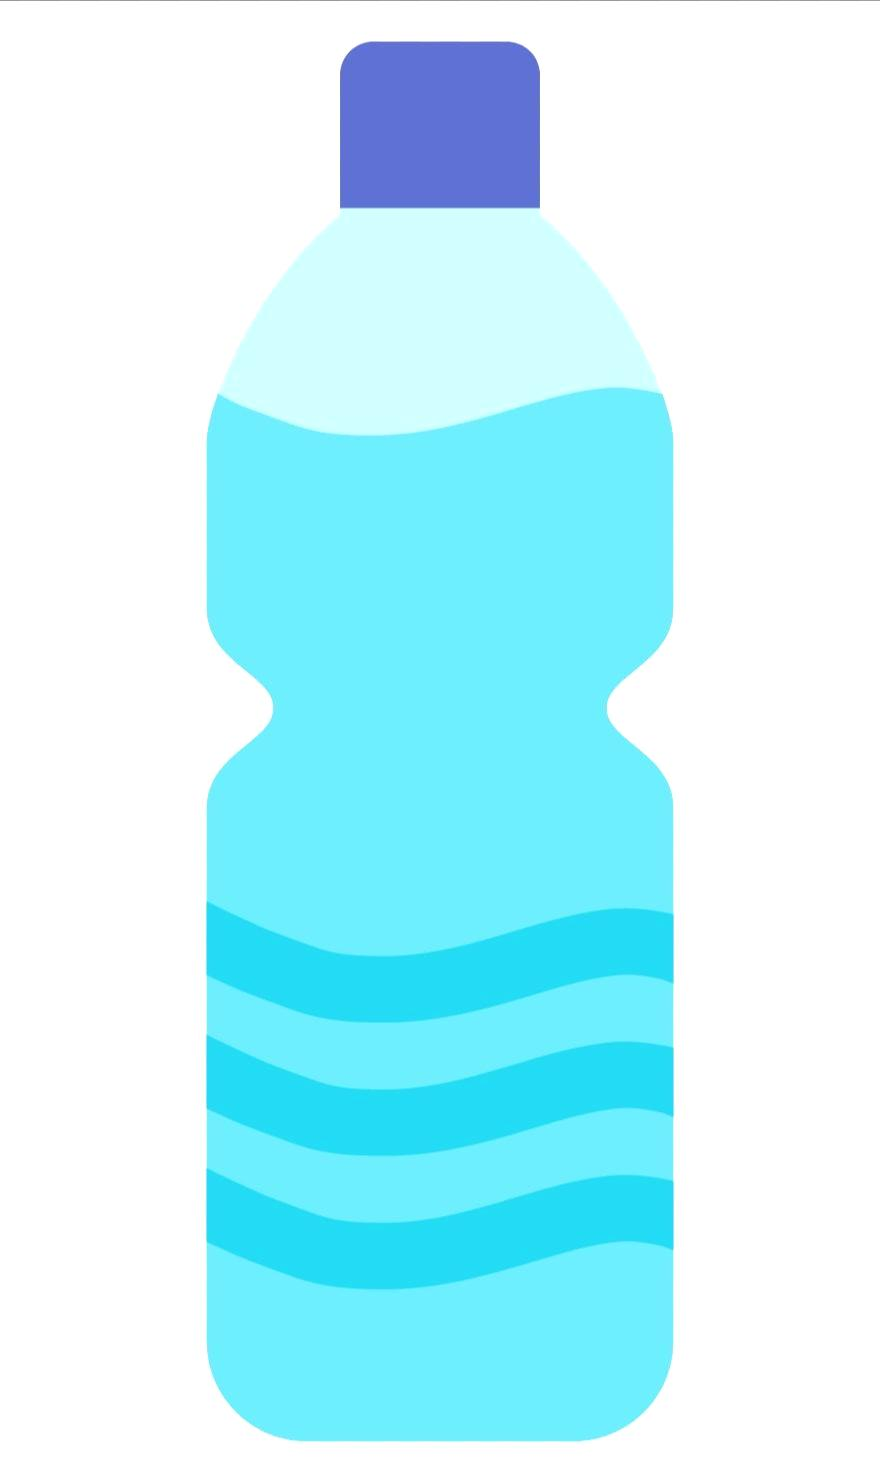bottle: (172, 0, 688, 1450)
